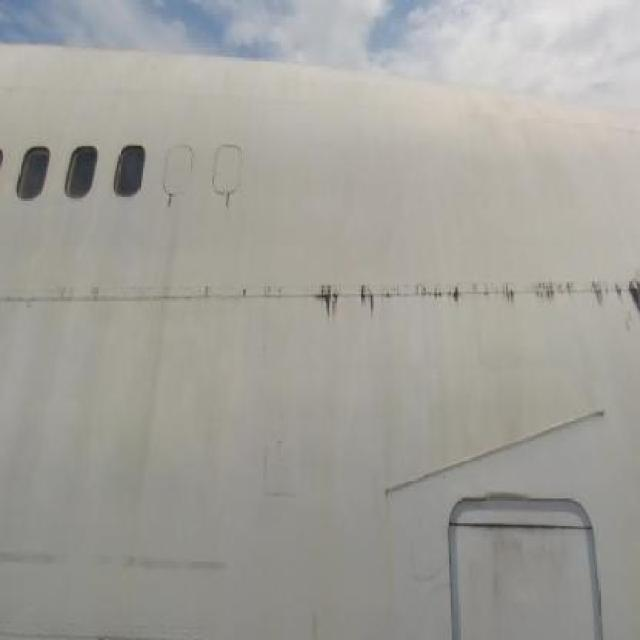Rust: (291, 262, 640, 361), (224, 194, 236, 217), (164, 193, 178, 209)
Scartch: (5, 528, 232, 598), (485, 534, 587, 623)
